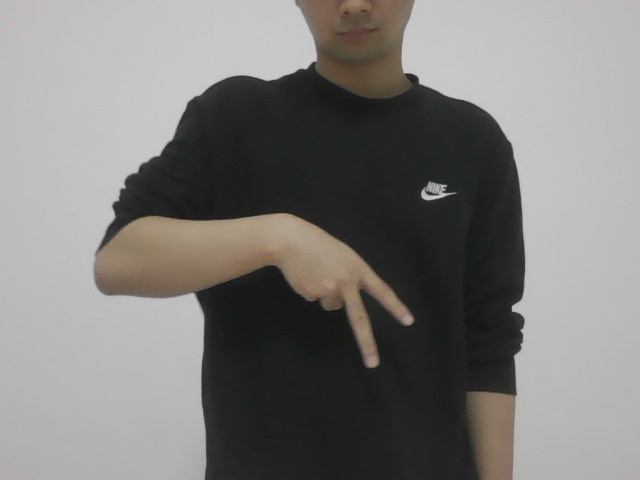walk: (247, 193, 418, 374)
